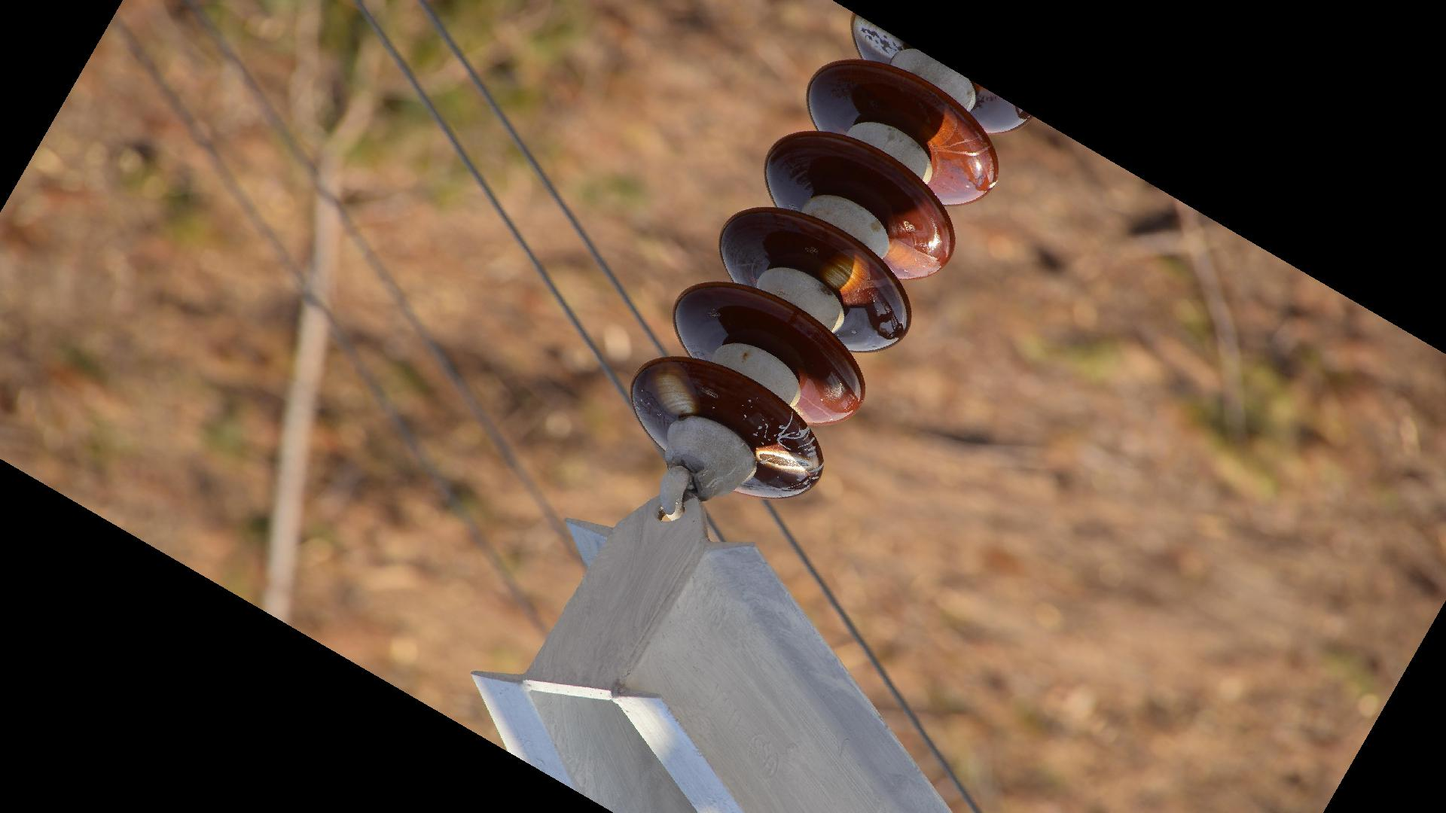insulator: (627, 1, 1036, 512)
insulator_flashover: (818, 247, 871, 296), (850, 13, 905, 60), (884, 237, 943, 280), (754, 444, 815, 477), (653, 373, 695, 419)
